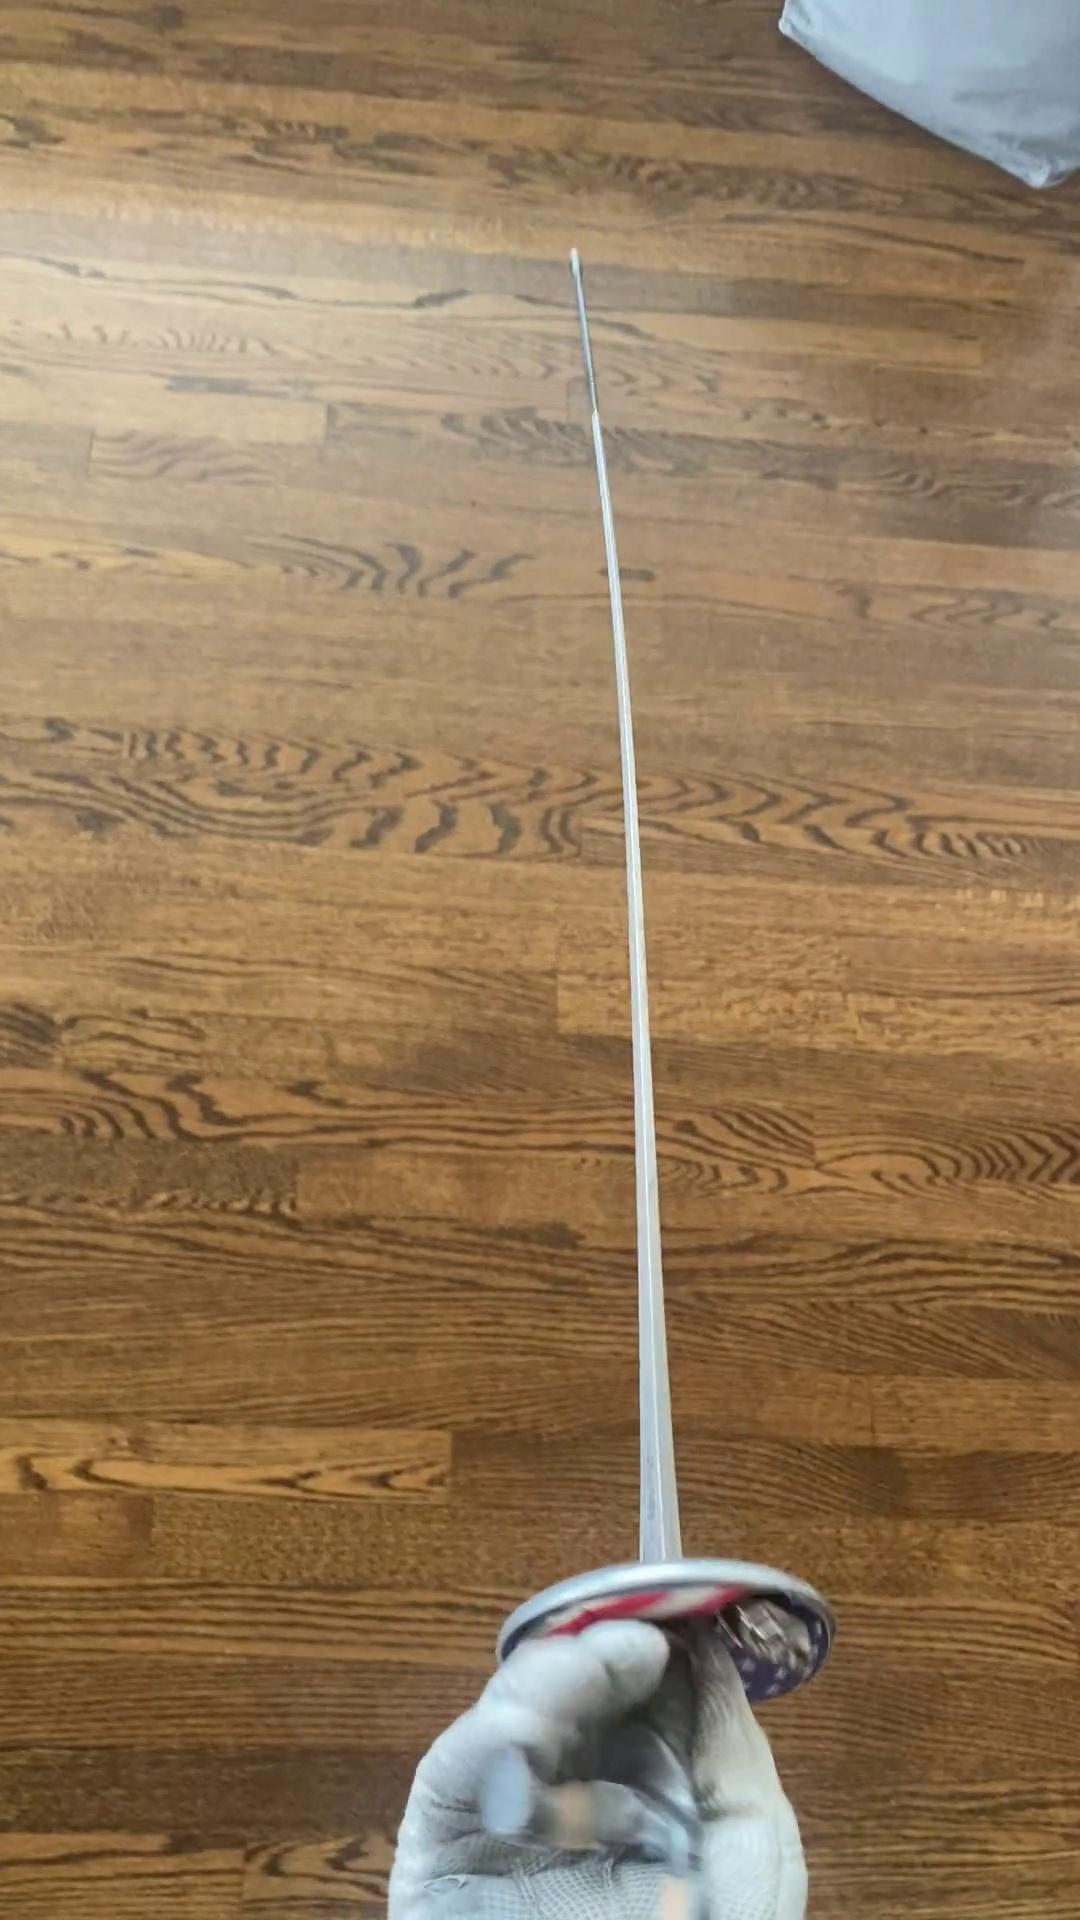blade-guard: (476, 1539, 876, 1768)
blade-tip: (531, 201, 650, 459)
fencing-blade: (466, 190, 854, 1913)
